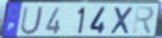1: (76, 7, 86, 35)
4: (88, 6, 108, 36), (44, 6, 62, 35)
R: (131, 6, 156, 36)
U: (19, 6, 45, 37)
X: (109, 6, 135, 35)
